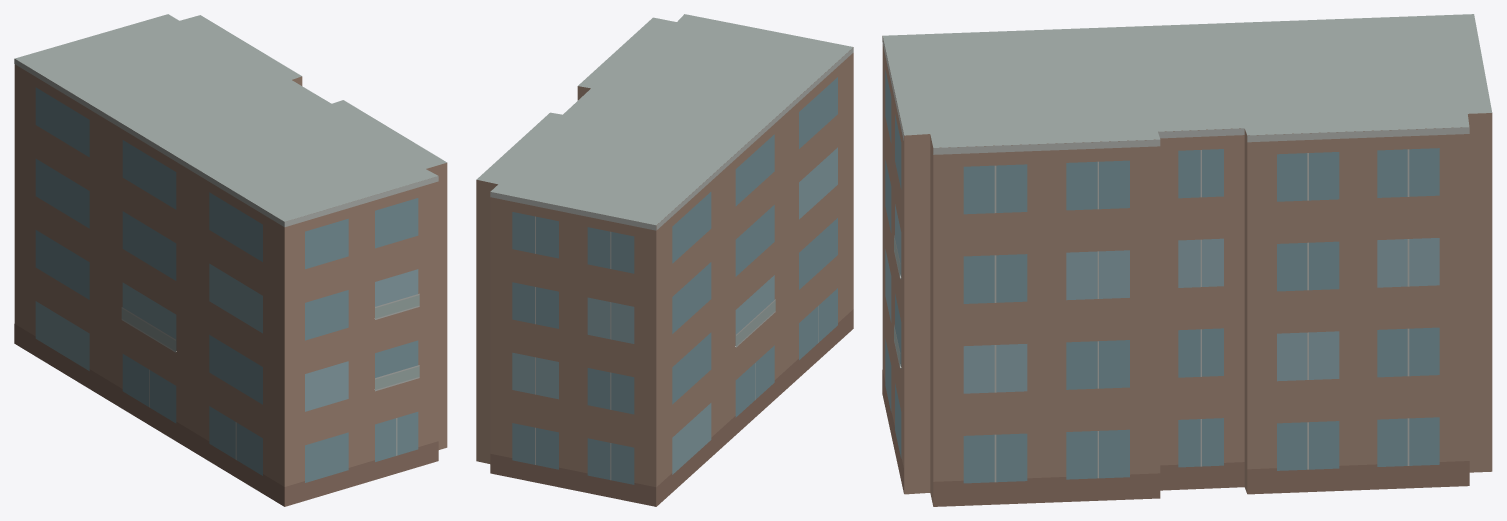
Rendered from survey-upis-32745927.glb.
3 renders of one model, left to right at view 1: azimuth 30°, elevation 25°; view 2: azimuth 150°, elevation 25°; view 3: azimuth 270°, elevation 25°, orthographic. The views are drawn at different scales.
Parts seen in each view (by area): view 1: survey-upis-32745927.tmp; view 2: survey-upis-32745927.tmp; view 3: survey-upis-32745927.tmp.
Part boxes in pixels (x1,y1,x2,y2): survey-upis-32745927.tmp: [14, 14, 447, 506]; survey-upis-32745927.tmp: [476, 14, 853, 506]; survey-upis-32745927.tmp: [882, 14, 1492, 506].
Bounding box in the file's own units: 10.26 × 12.8 × 19.72.
